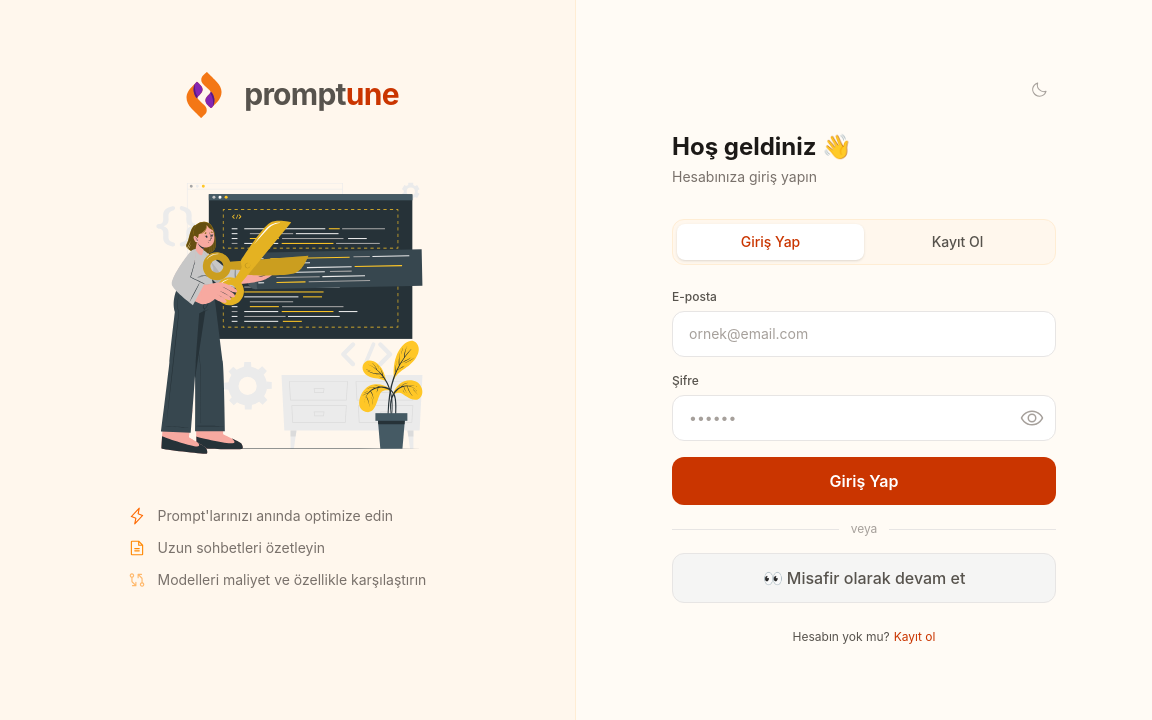
Auth — tab geçişi › Giriş Yap tabına geri dönünce Şifre Tekrar inputu kaybolmalı
Önce kayıt moduna geç
Click the button "Kayıt Ol" at coordinates (958, 242), box top-left (864, 224), bottom-right (1051, 260)
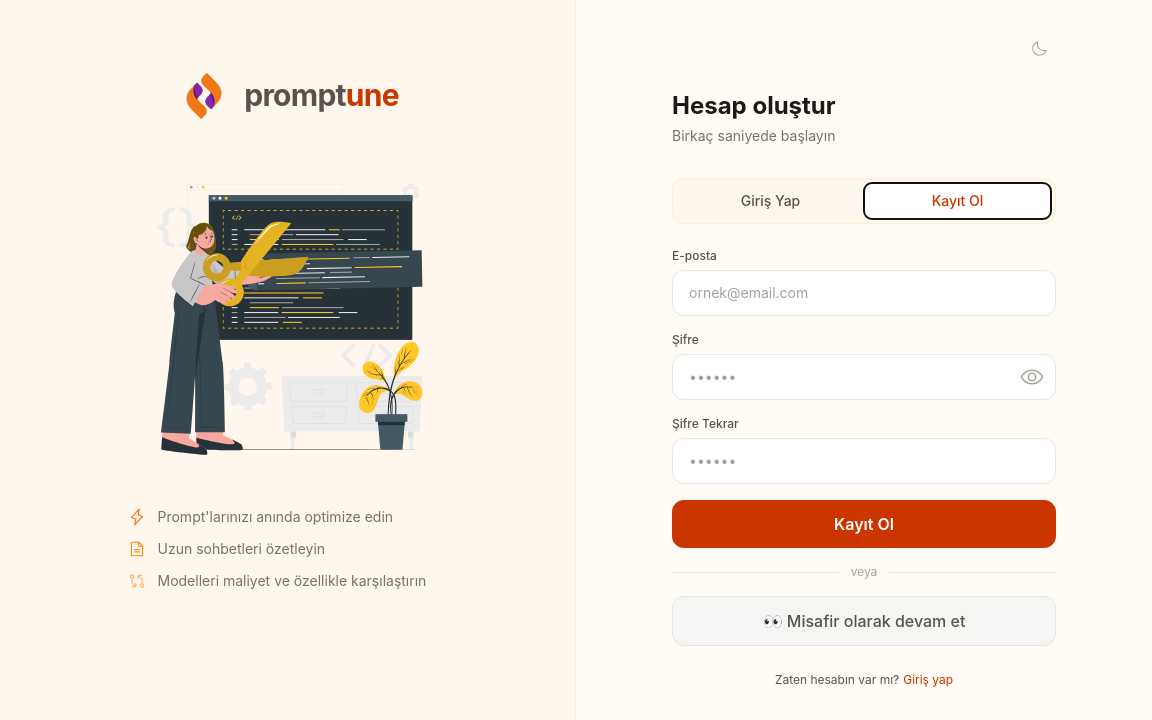
Geri giriş moduna geç — ilk "Giriş Yap" butonu tab switcher'daki
Click the button "Giriş Yap" at coordinates (770, 201), box top-left (677, 183), bottom-right (864, 219)
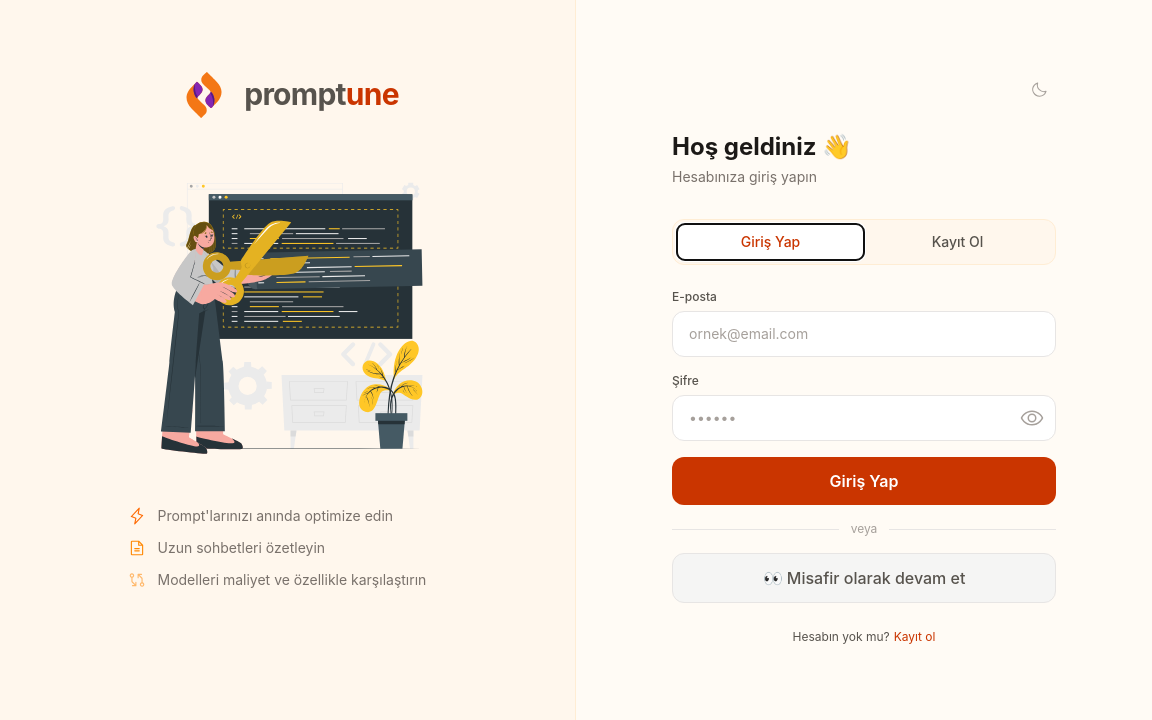
Check: the number of password fields with placeholder "••••••" is 1, box top-left (672, 395), bottom-right (1056, 441)
